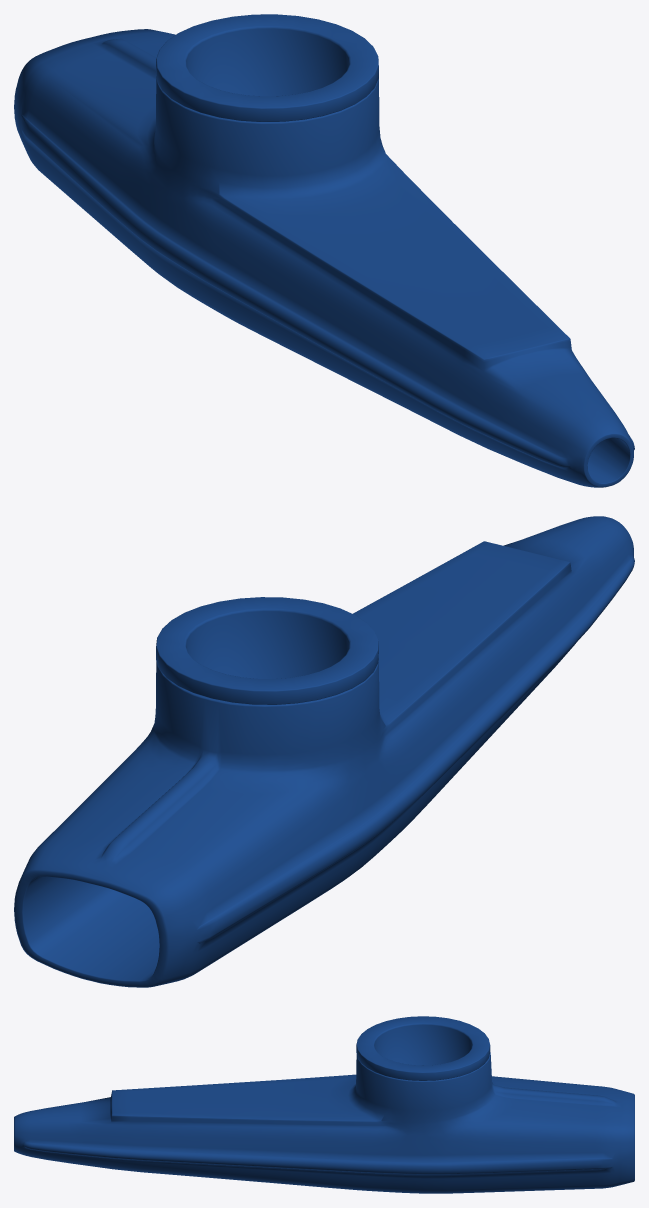
File: Kazoo.glb
The picture shows the model from 3 angles, top to bottom: view 1: azimuth 30°, elevation 25°; view 2: azimuth 150°, elevation 25°; view 3: azimuth 270°, elevation 25°; orthographic projection. The views are drawn at different scales.
Visible parts, largest first — view 1: Kazoo; view 2: Kazoo; view 3: Kazoo.
Part boxes in pixels (x1,y1,x2,y2): Kazoo: [14, 14, 634, 487]; Kazoo: [14, 516, 634, 987]; Kazoo: [14, 1016, 634, 1193].
Size of the model in its own units: 0.0728 by 0.0683 by 0.2879.
1 material, 1 textured.
